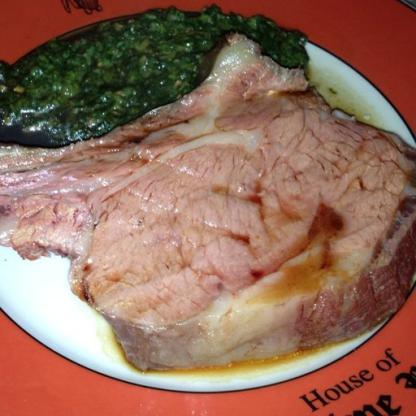beef: (0, 38, 415, 370)
